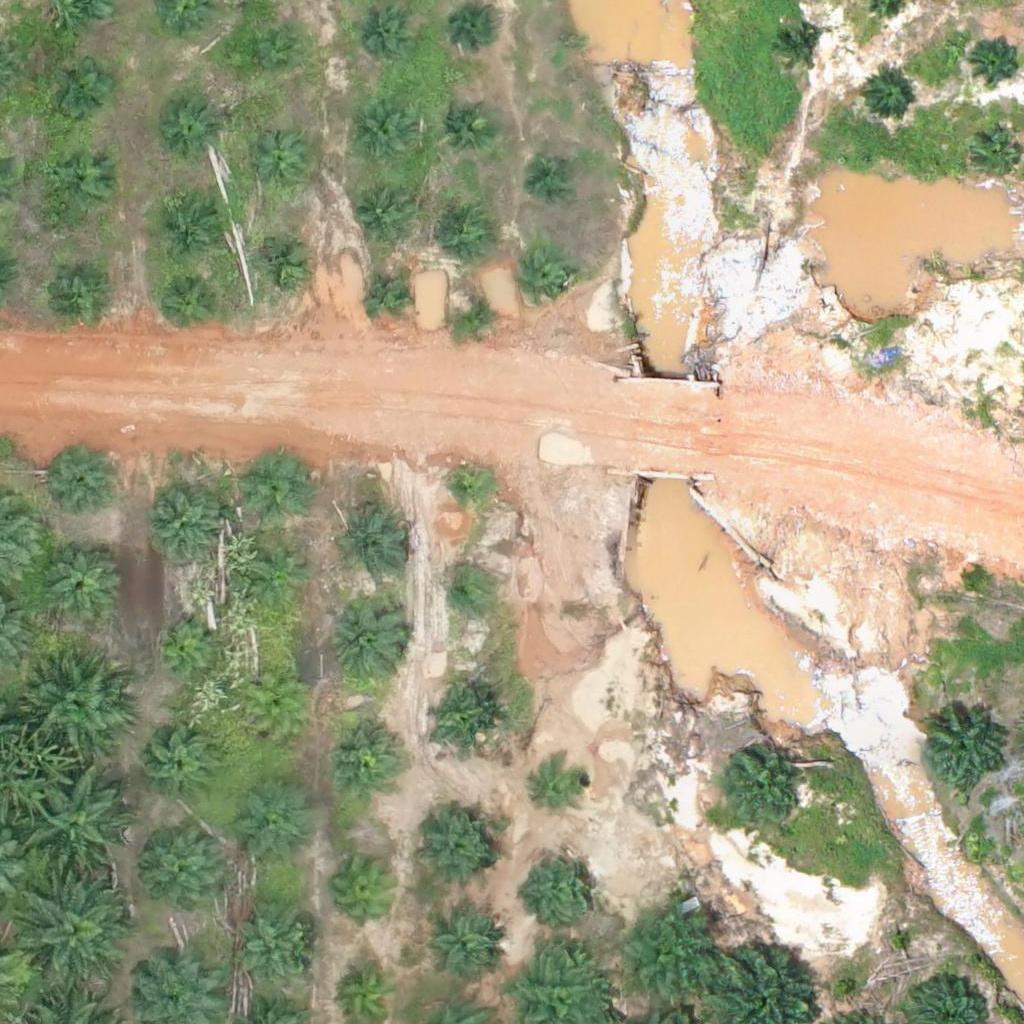Kelapa_Sawit: (21, 880, 134, 993), (613, 896, 725, 1010), (30, 779, 130, 880), (24, 656, 124, 756), (416, 809, 504, 897), (919, 707, 1007, 795), (140, 828, 227, 917), (420, 906, 507, 994), (718, 748, 805, 836), (227, 910, 314, 998), (143, 481, 230, 569), (38, 538, 125, 626), (333, 503, 408, 579), (43, 448, 118, 524), (424, 684, 499, 760), (526, 847, 601, 923), (333, 600, 408, 676), (141, 727, 216, 802), (238, 791, 313, 866), (325, 718, 400, 793), (331, 851, 406, 926), (237, 30, 300, 93), (352, 6, 415, 69), (350, 103, 413, 166), (47, 148, 110, 211), (45, 255, 108, 318), (157, 272, 220, 335), (246, 453, 309, 516), (437, 199, 500, 262), (351, 184, 414, 247), (242, 675, 305, 738), (48, 62, 110, 125), (161, 194, 223, 257), (158, 98, 220, 161), (252, 549, 314, 612), (247, 136, 309, 199), (252, 234, 314, 297), (437, 94, 499, 157), (531, 756, 593, 819), (151, 615, 213, 677), (364, 269, 414, 320), (450, 290, 500, 341), (971, 33, 1021, 84), (453, 5, 503, 55), (862, 73, 912, 123), (521, 256, 571, 306), (531, 151, 581, 201), (443, 464, 493, 514), (439, 571, 489, 621), (973, 134, 1023, 184), (774, 25, 824, 75)
